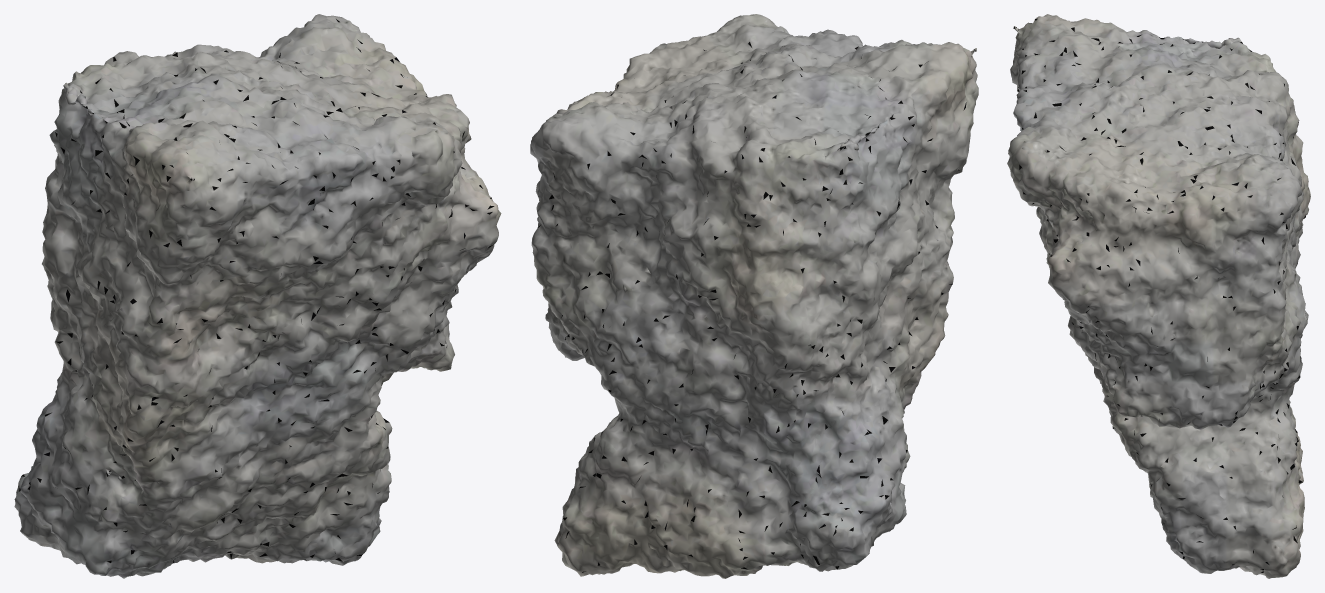
File: 4oclock_tuff_baked.glb
The picture shows the model from 3 angles, left to right: view 1: azimuth 30°, elevation 25°; view 2: azimuth 150°, elevation 25°; view 3: azimuth 270°, elevation 25°; orthographic projection. The views are drawn at different scales.
Visible parts, largest first — view 1: TuffRock_web; view 2: TuffRock_web; view 3: TuffRock_web.
Boxes of the visible parts, x1,y1,x2,y2 form: TuffRock_web: (14, 14, 501, 578); TuffRock_web: (530, 14, 978, 578); TuffRock_web: (1007, 14, 1310, 578).
Size of the model in its own units: 0.6834 by 0.9523 by 0.5762.
Materials: 1 (1 with a texture image).
